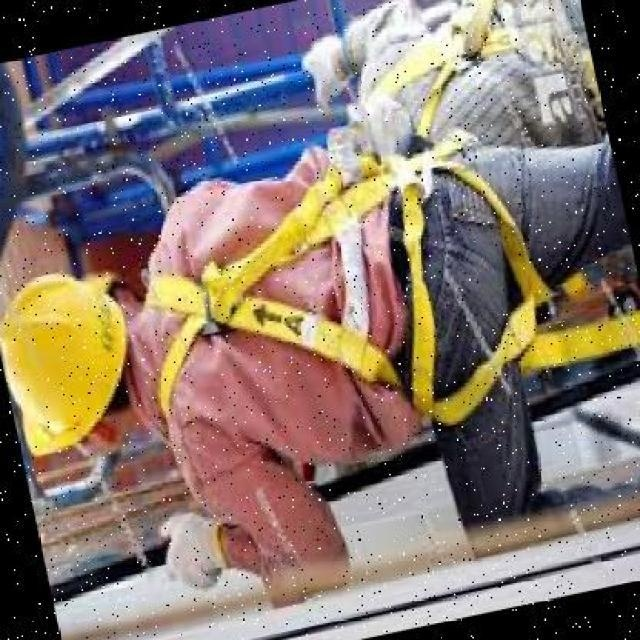Arnes_seguridad: (111, 117, 570, 490), (332, 0, 605, 168)
